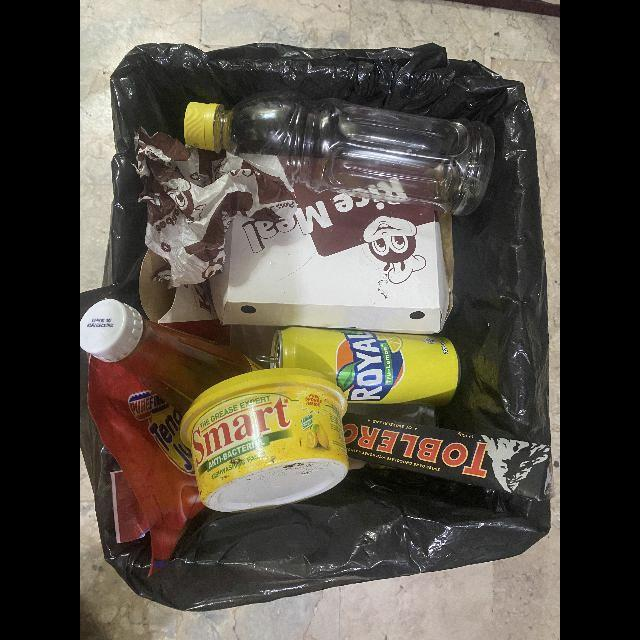aluminum: (257, 327, 460, 406)
cardboard: (208, 160, 453, 335), (342, 411, 552, 502), (139, 249, 215, 323)
glass_bottle: (80, 297, 268, 413)
paper: (135, 126, 296, 287)
plastic_bottle: (183, 92, 495, 217), (178, 367, 348, 511)
